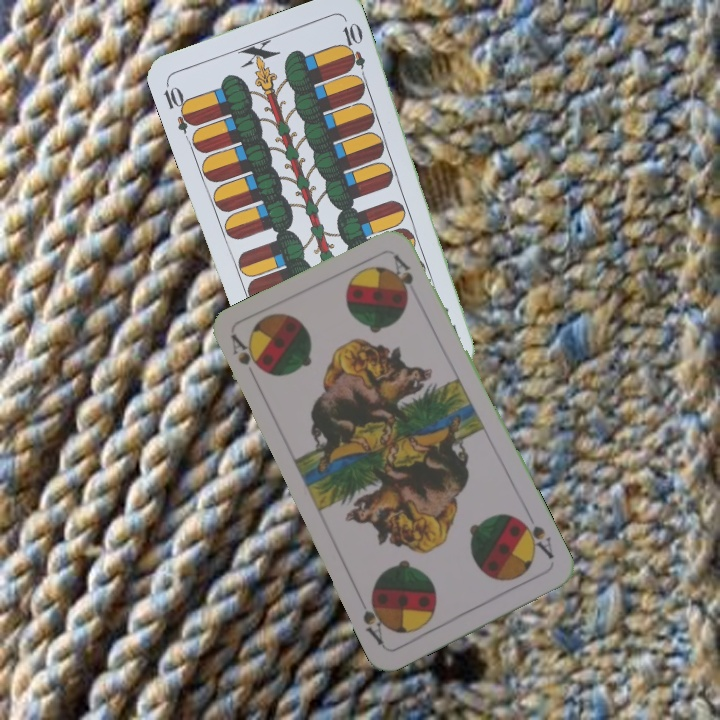E10: (159, 78, 199, 135)
SA: (514, 515, 557, 562), (227, 331, 263, 374)
